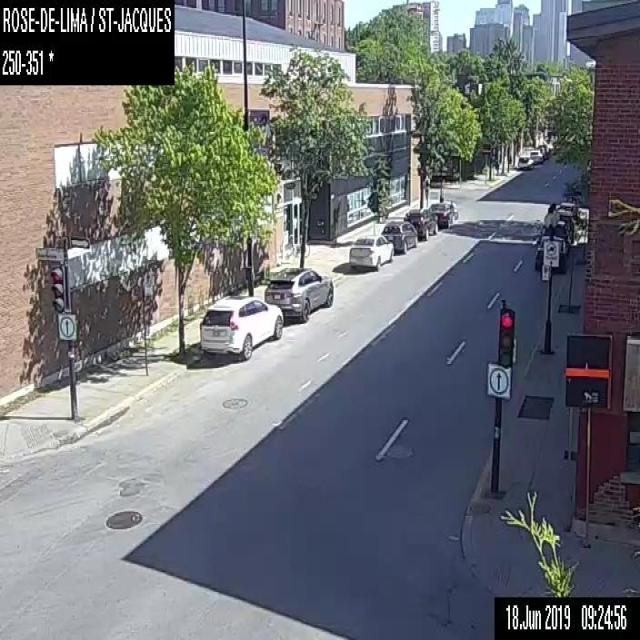vehicle: (199, 295, 286, 357), (264, 266, 334, 324), (347, 232, 395, 270), (532, 234, 572, 269), (380, 219, 418, 251), (402, 206, 438, 238), (541, 220, 568, 250), (427, 200, 457, 226), (555, 207, 575, 239), (558, 200, 576, 223), (516, 155, 534, 168), (529, 149, 542, 161)
